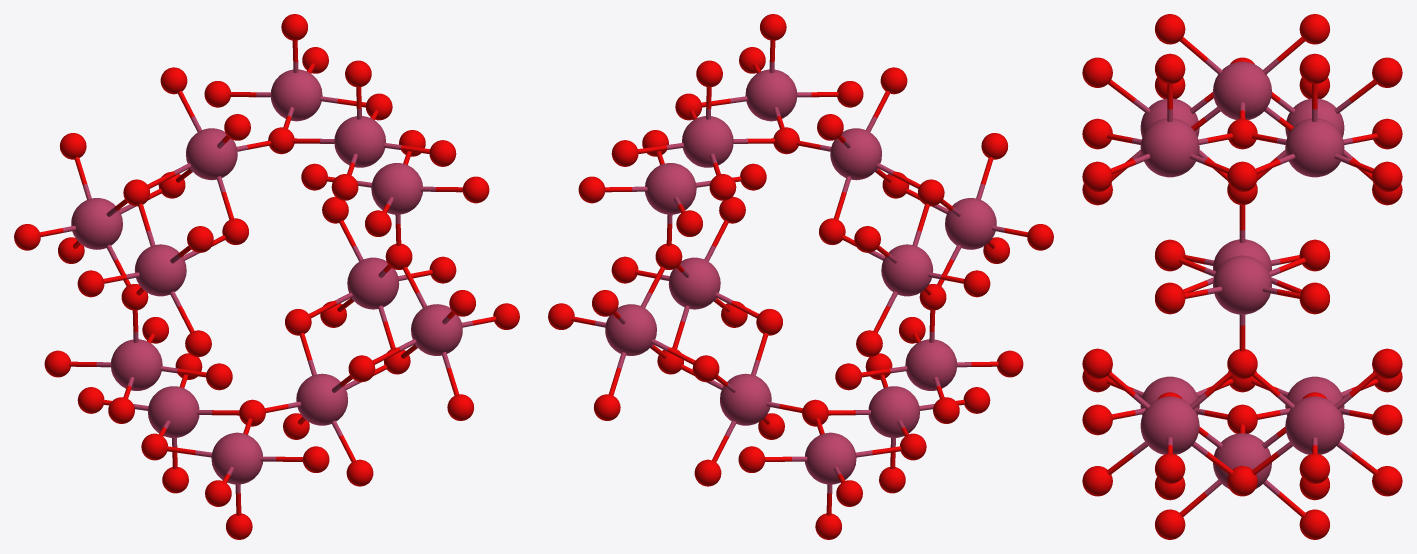
The model's file is VOOH_try1.glb.
The picture shows the model from 3 angles, left to right: view 1: azimuth 30°, elevation 25°; view 2: azimuth 150°, elevation 25°; view 3: azimuth 270°, elevation 25°; orthographic projection. The views are drawn at different scales.
Parts seen in each view (by area): view 1: Fe03, Fe10, Fe07, Fe12, Fe09, Fe11, Fe08, Fe04, Fe06, Fe02, Fe05, Fe01; view 2: Fe04, Fe09, Fe08, Fe12, Fe10, Fe11, Fe07, Fe03, Fe06, Fe01, Fe05, Fe02; view 3: Fe11, Fe09, Fe10, Fe01, Fe02, Fe05, Fe06, Fe03, Fe04, Fe07, Fe08, Fe12 (+36 smaller).
Boxes of the visible parts, box(x1,y1,x2,y2) form: Fe03: box(134, 244, 186, 296); Fe10: box(270, 69, 322, 121); Fe07: box(211, 432, 262, 484); Fe12: box(110, 339, 162, 390); Fe09: box(334, 116, 385, 167); Fe11: box(371, 163, 422, 214); Fe08: box(148, 386, 199, 437); Fe04: box(71, 198, 122, 249); Fe06: box(296, 373, 347, 425); Fe02: box(347, 257, 399, 309); Fe05: box(186, 128, 237, 180); Fe01: box(411, 304, 462, 355); Fe04: box(881, 244, 933, 296); Fe09: box(745, 69, 797, 121); Fe08: box(805, 432, 856, 484); Fe12: box(905, 339, 957, 390); Fe10: box(682, 116, 733, 167); Fe11: box(645, 163, 696, 214); Fe07: box(868, 386, 919, 437); Fe03: box(945, 198, 996, 249); Fe06: box(720, 373, 771, 425); Fe01: box(668, 257, 720, 309); Fe05: box(830, 128, 881, 180); Fe02: box(605, 304, 656, 355); Fe11: box(1213, 255, 1271, 314); Fe09: box(1140, 118, 1199, 177); Fe10: box(1285, 118, 1344, 177); Fe01: box(1140, 396, 1199, 454); Fe02: box(1285, 396, 1344, 454); Fe05: box(1213, 61, 1271, 119); Fe06: box(1213, 433, 1271, 488); Fe03: box(1140, 98, 1199, 137); Fe04: box(1285, 98, 1344, 137); Fe07: box(1140, 376, 1199, 415); Fe08: box(1285, 376, 1344, 415); Fe12: box(1213, 239, 1271, 271).
Size of the model in its own units: 12.08 by 11.78 by 6.71.
